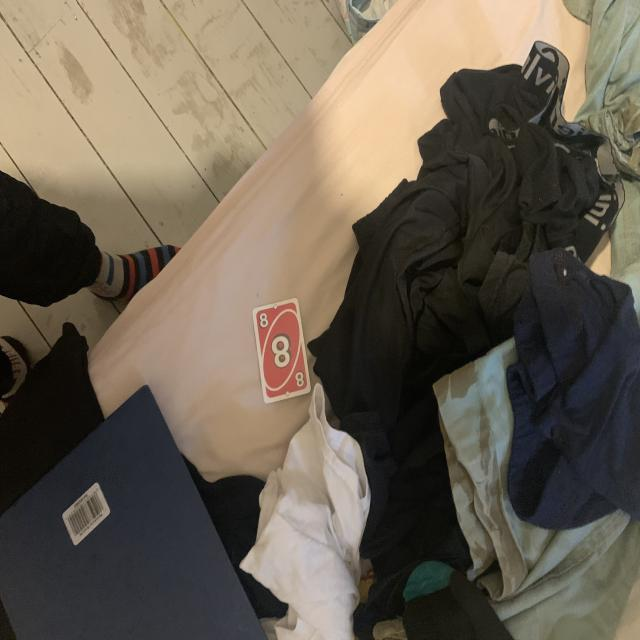lred-8: (258, 311, 270, 332)
